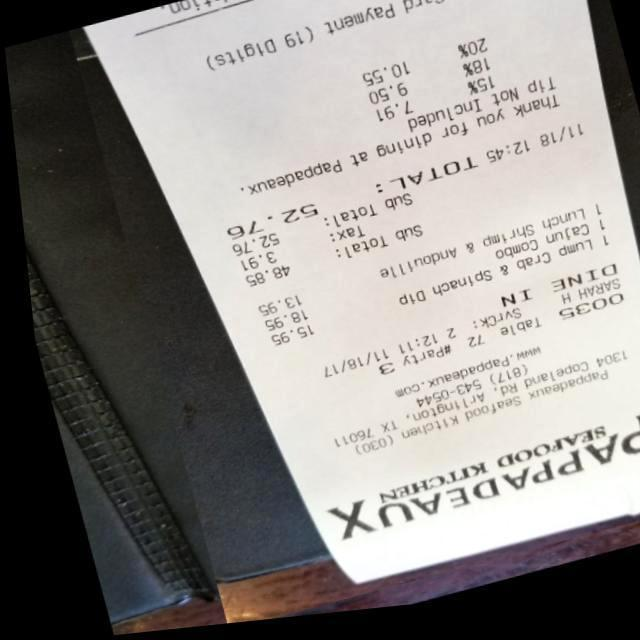Paper: (64, 0, 640, 634)
